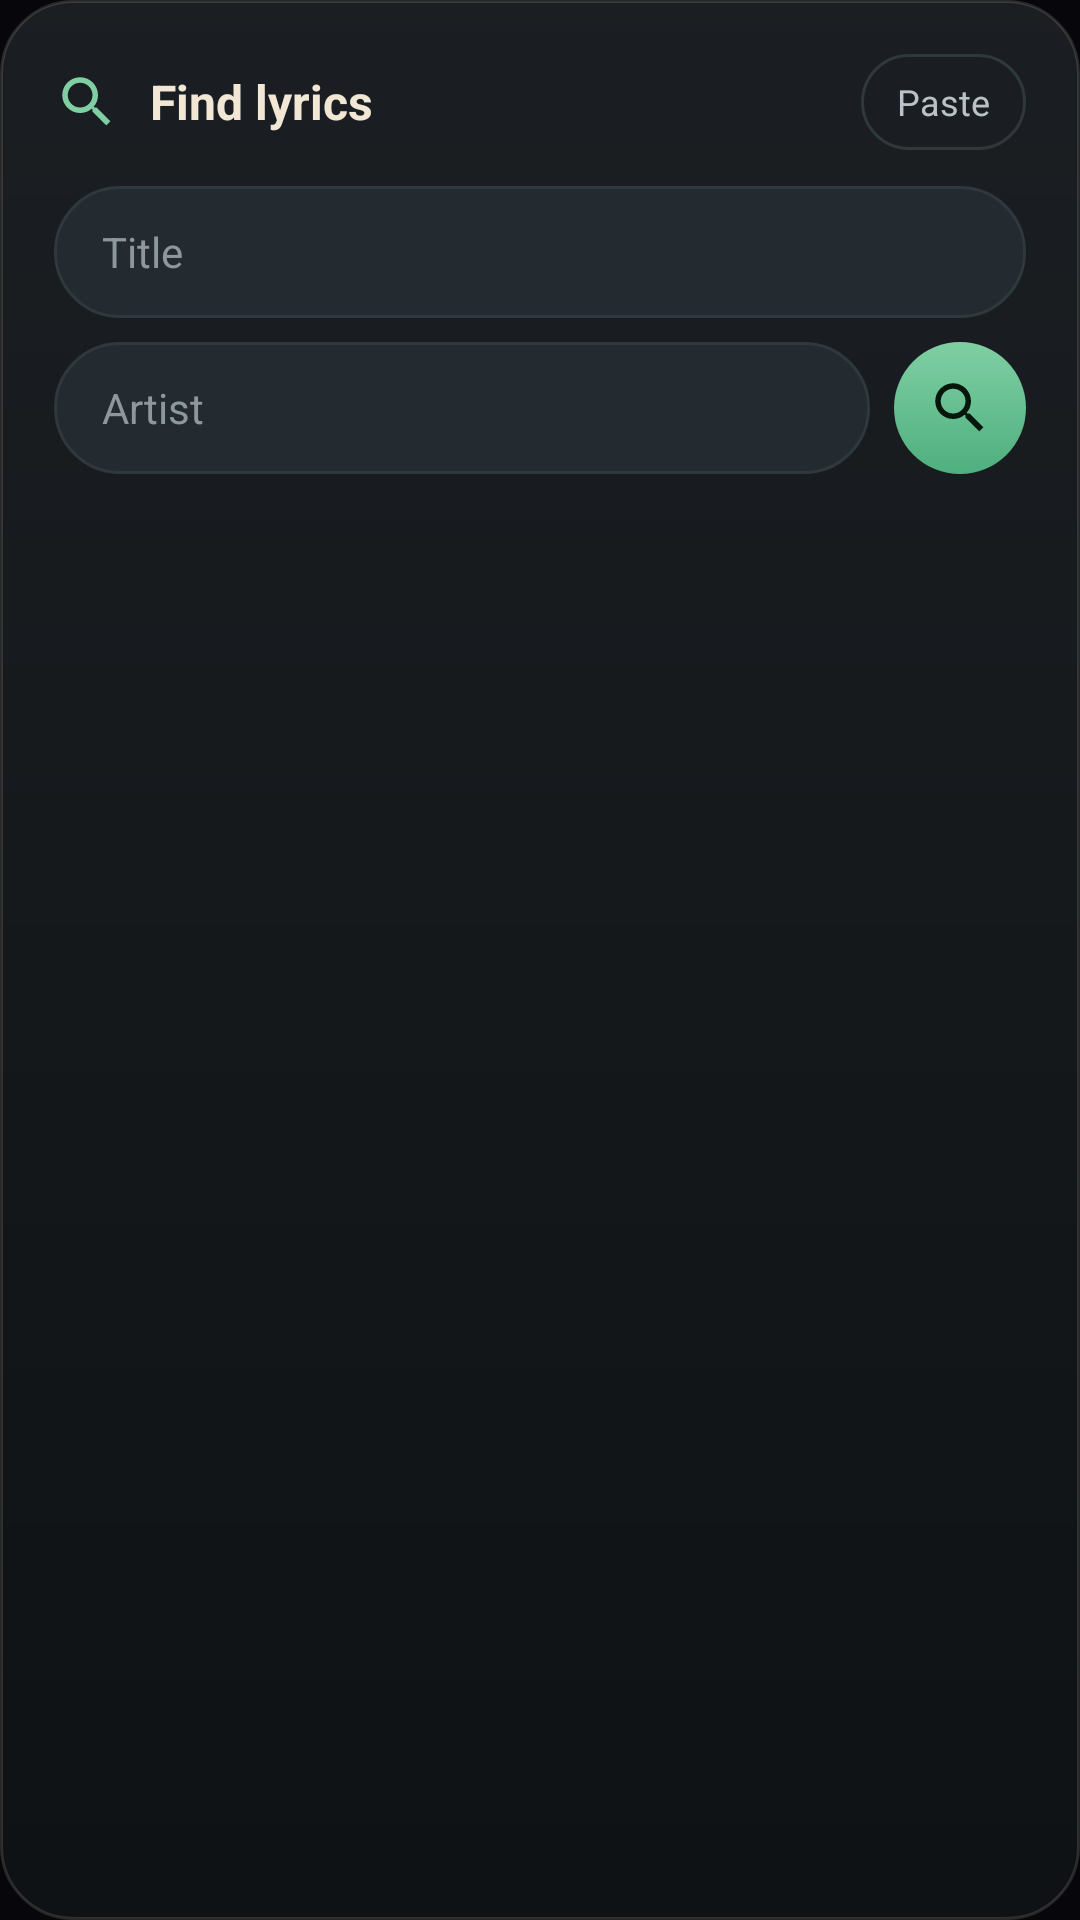

Locate icon controls on the screen. Image size 1080x1920, boxes as (x1, y1, x2, y2).
search: (62, 77, 110, 125), (894, 342, 1026, 474)
